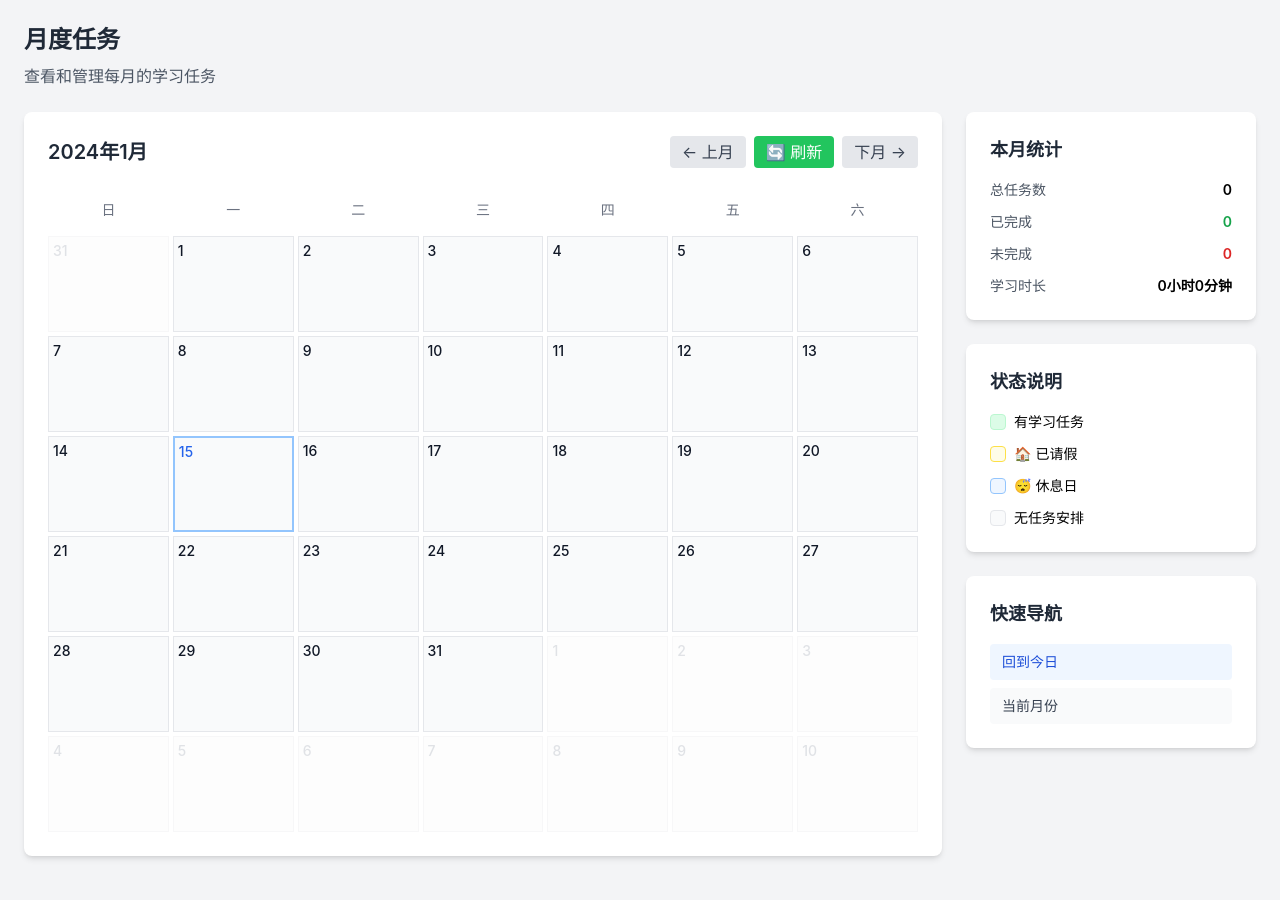
MonthScreen Component › selects a date and shows task modal
Expected: the heading "2024年1月" is shown, [48,138,148,166]
Click the text "15".
click(186, 452)  # box [179,442,193,462]
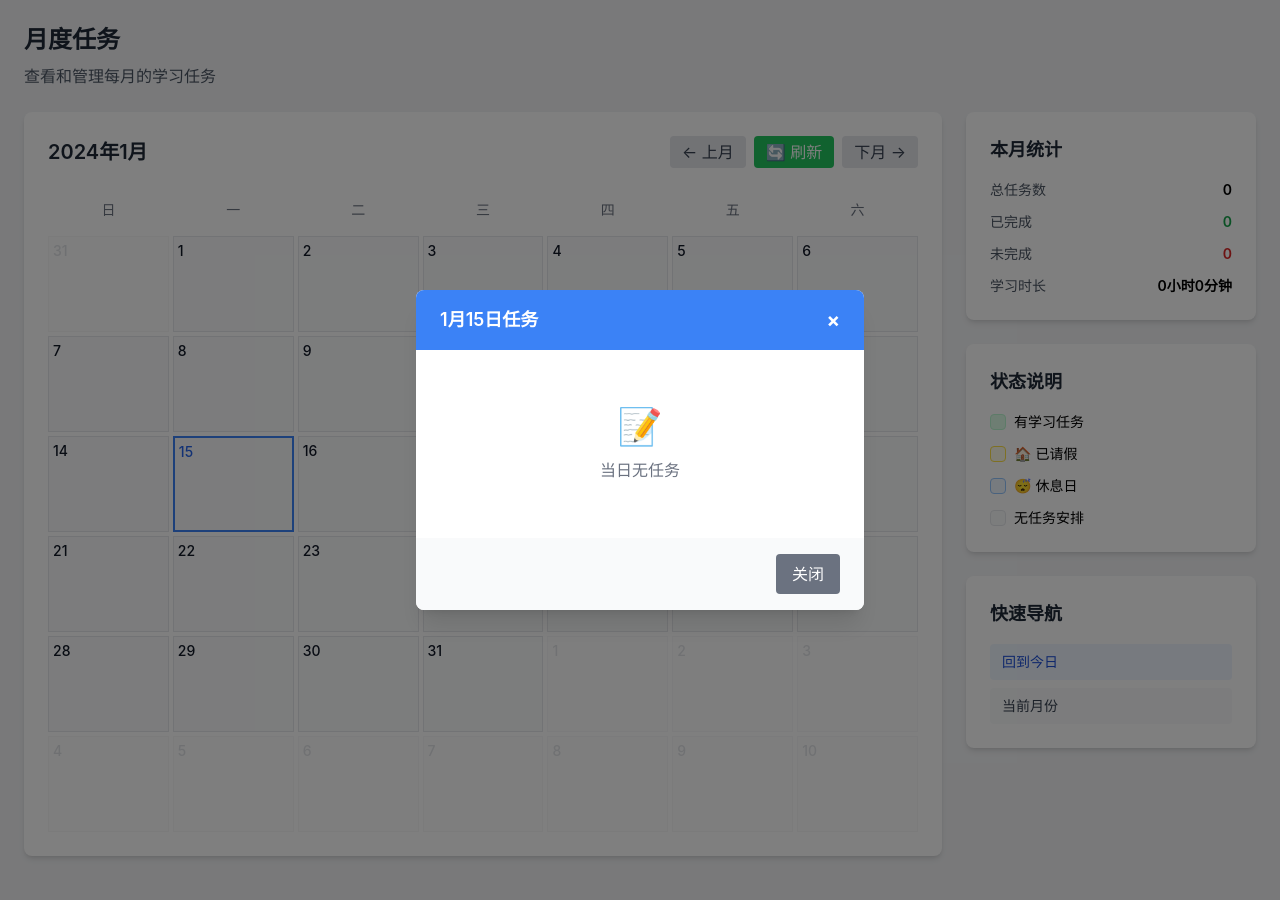
Expected: the heading "1月15日任务" is shown, [440,306,538,334]
Expected: the button "×" is shown, [826,306,840,334]
Expected: the button "关闭" is shown, [776,554,840,594]
